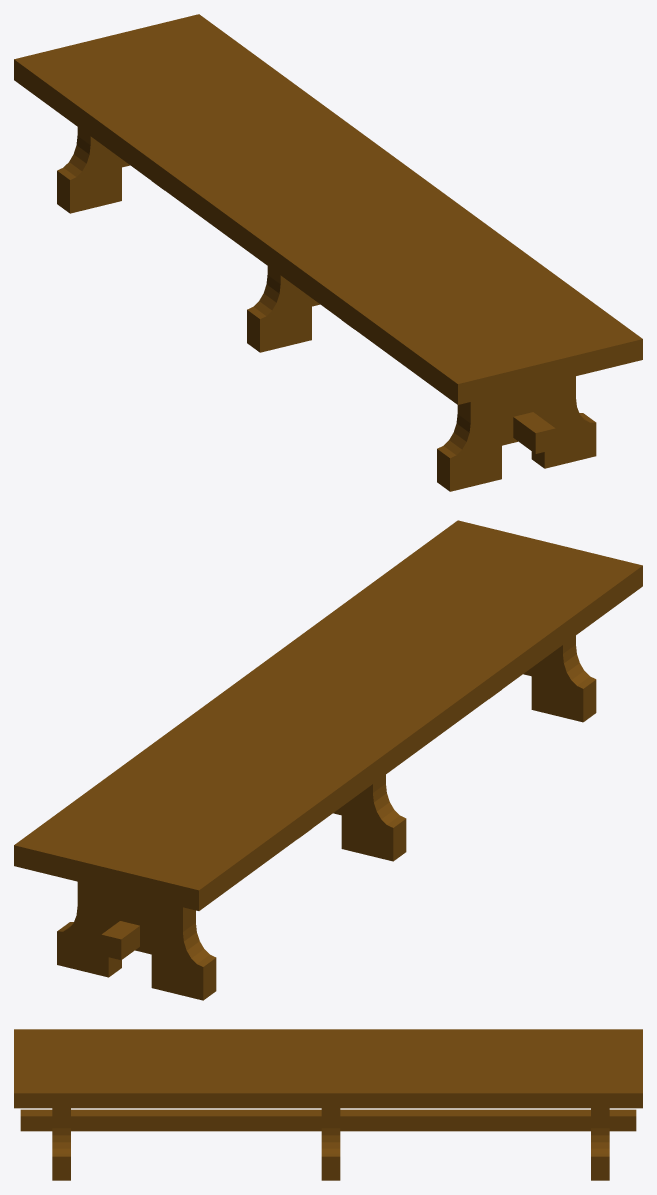
File: Bench.fbx
The picture shows the model from 3 angles, top to bottom: view 1: azimuth 30°, elevation 25°; view 2: azimuth 150°, elevation 25°; view 3: azimuth 270°, elevation 25°; orthographic projection. The views are drawn at different scales.
Parts seen in each view (by area): view 1: Cube.002, Cube.001, Cube.004, Cube.003, Cube; view 2: Cube.002, Cube.003, Cube.001, Cube.004, Cube; view 3: Cube.002, Cube, Cube.004, Cube.001, Cube.003.
Boxes of the visible parts, x1=… form: Cube.002: x1=14, y1=14, x2=642, y2=404; Cube.001: x1=437, y1=376, x2=596, y2=491; Cube.004: x1=247, y1=266, x2=354, y2=352; Cube.003: x1=57, y1=127, x2=164, y2=213; Cube: x1=513, y1=412, x2=555, y2=453; Cube.002: x1=14, y1=520, x2=642, y2=910; Cube.003: x1=57, y1=882, x2=216, y2=1000; Cube.001: x1=489, y1=635, x2=596, y2=722; Cube.004: x1=300, y1=775, x2=406, y2=861; Cube: x1=101, y1=921, x2=139, y2=960; Cube.002: x1=14, y1=1029, x2=642, y2=1108; Cube: x1=20, y1=1109, x2=636, y2=1131; Cube.004: x1=321, y1=1108, x2=340, y2=1180; Cube.001: x1=52, y1=1108, x2=70, y2=1180; Cube.003: x1=591, y1=1108, x2=609, y2=1180.
Size of the model in its own units: 1856 by 1267 by 7709.
